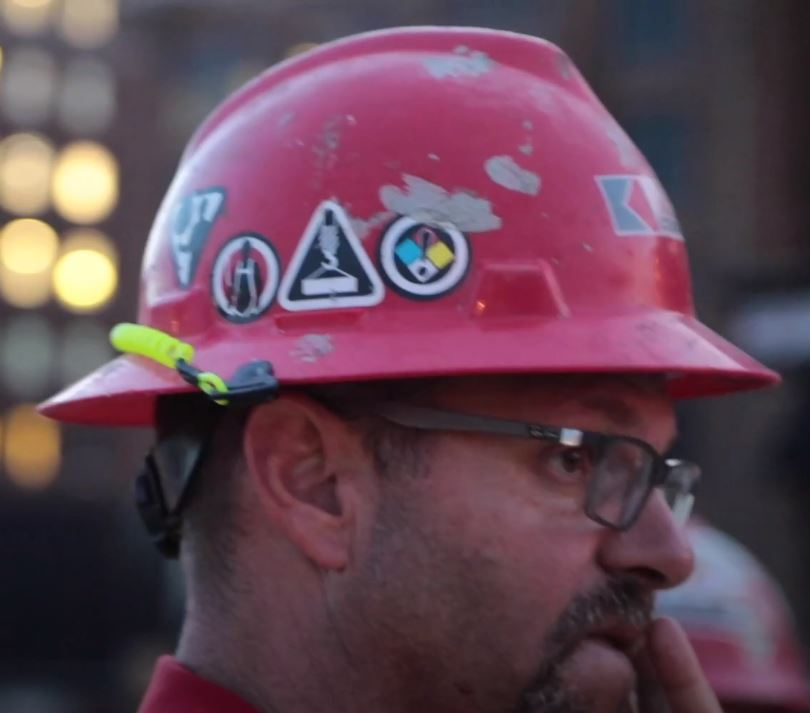Safety Helmet: (32, 13, 794, 713)
